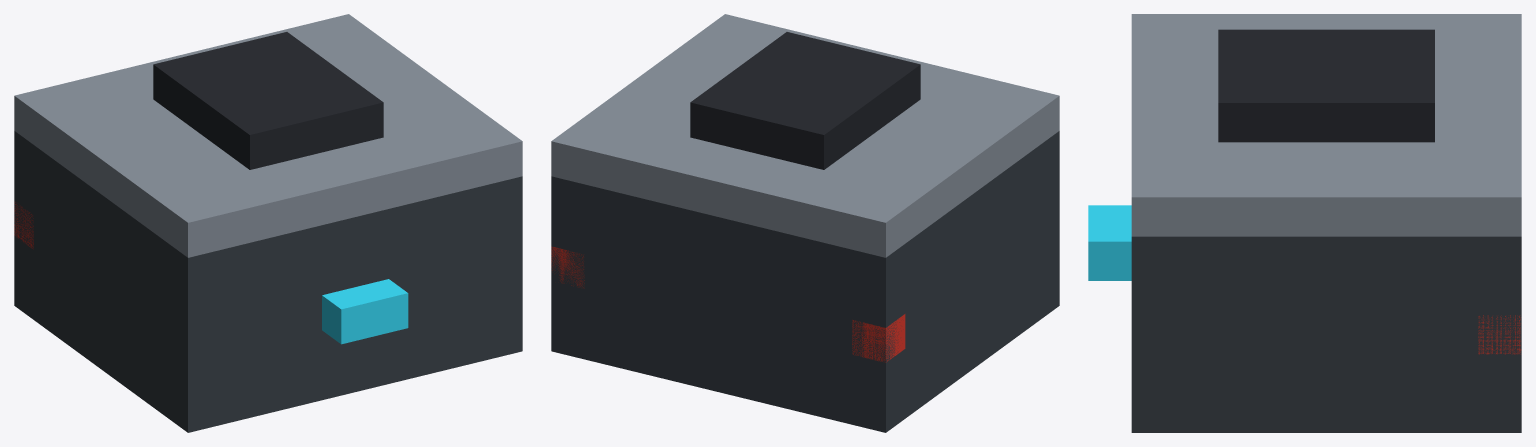
File: item_toolkit.glb
3 views of the same model, side by side, from view 1: azimuth 30°, elevation 25°; view 2: azimuth 150°, elevation 25°; view 3: azimuth 270°, elevation 25° (orthographic). The views are drawn at different scales.
Visible parts, largest first — view 1: Box mesh, Lid mesh, Handle mesh, Light mesh, Latch mesh; view 2: Box mesh, Lid mesh, Handle mesh, Latch mesh; view 3: Box mesh, Lid mesh, Handle mesh, Light mesh, Latch mesh.
Part boxes in pixels (x1=…): Box mesh: x1=14, y1=131, x2=522, y2=432; Lid mesh: x1=14, y1=14, x2=522, y2=257; Handle mesh: x1=153, y1=32, x2=383, y2=169; Light mesh: x1=322, y1=279, x2=408, y2=344; Latch mesh: x1=14, y1=202, x2=33, y2=249; Box mesh: x1=551, y1=131, x2=1059, y2=432; Lid mesh: x1=551, y1=14, x2=1059, y2=257; Handle mesh: x1=690, y1=32, x2=920, y2=169; Latch mesh: x1=551, y1=246, x2=905, y2=362; Box mesh: x1=1131, y1=236, x2=1521, y2=432; Lid mesh: x1=1131, y1=14, x2=1521, y2=236; Handle mesh: x1=1218, y1=29, x2=1434, y2=142; Light mesh: x1=1088, y1=205, x2=1131, y2=280; Latch mesh: x1=1478, y1=315, x2=1521, y2=354.
Bounding box in the file's own units: 10 × 7 × 10.
1 material, 1 textured.
